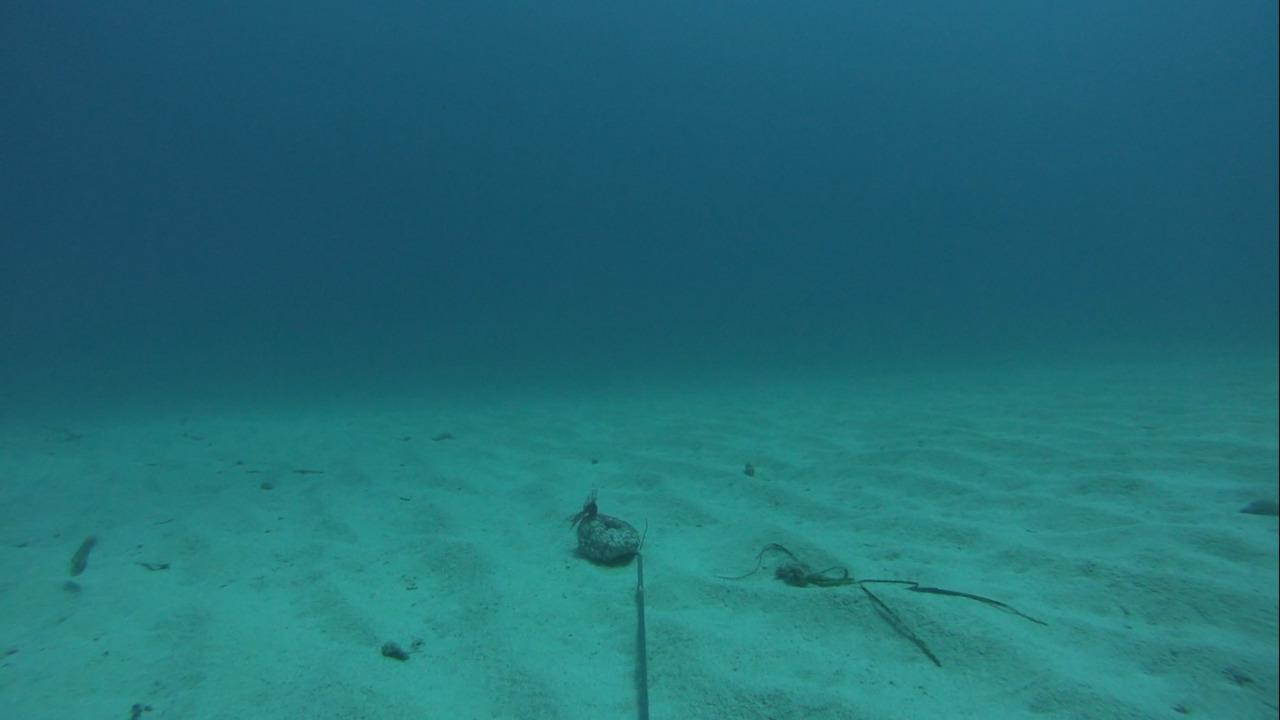raor: (55, 530, 108, 577)
